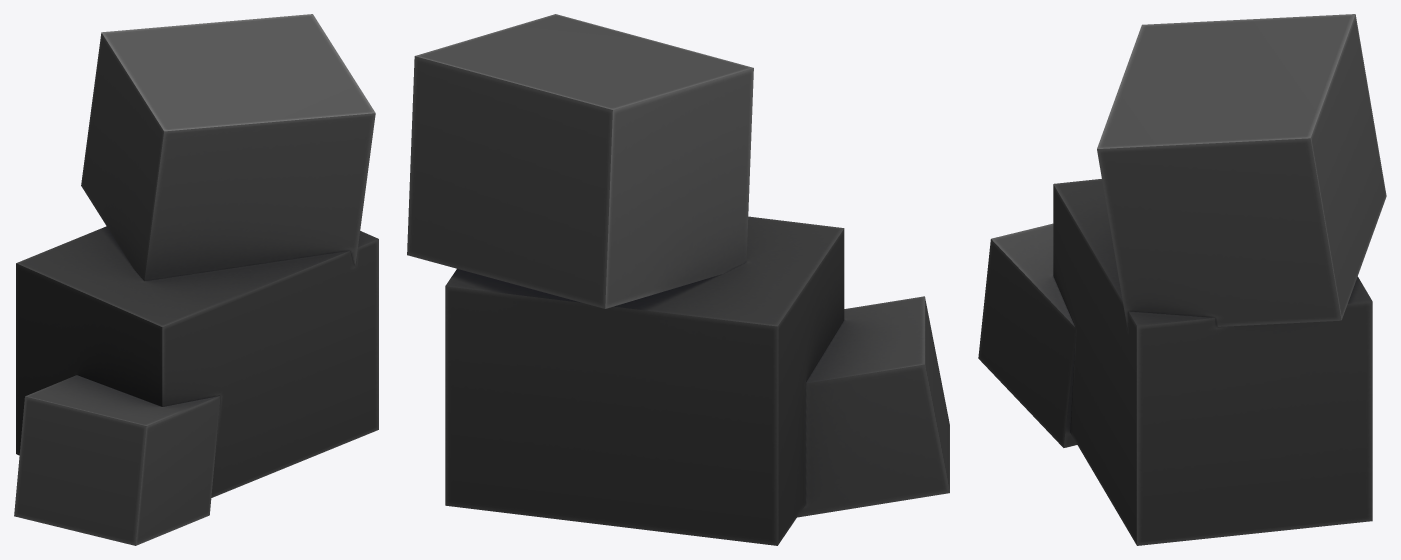
The model's file is rock_tower_block.glb.
The picture shows the model from 3 angles, left to right: view 1: azimuth 30°, elevation 25°; view 2: azimuth 150°, elevation 25°; view 3: azimuth 270°, elevation 25°; orthographic projection. The views are drawn at different scales.
Visible parts, largest first — view 1: rock_tower_block; view 2: rock_tower_block; view 3: rock_tower_block.
Boxes of the visible parts, <box> form: rock_tower_block: <box>14,14,378,545</box>; rock_tower_block: <box>407,14,949,545</box>; rock_tower_block: <box>978,14,1386,545</box>.
Size of the model in its own units: 0.8802 by 0.849 by 0.7067.
Materials: 1 (1 with a texture image).
